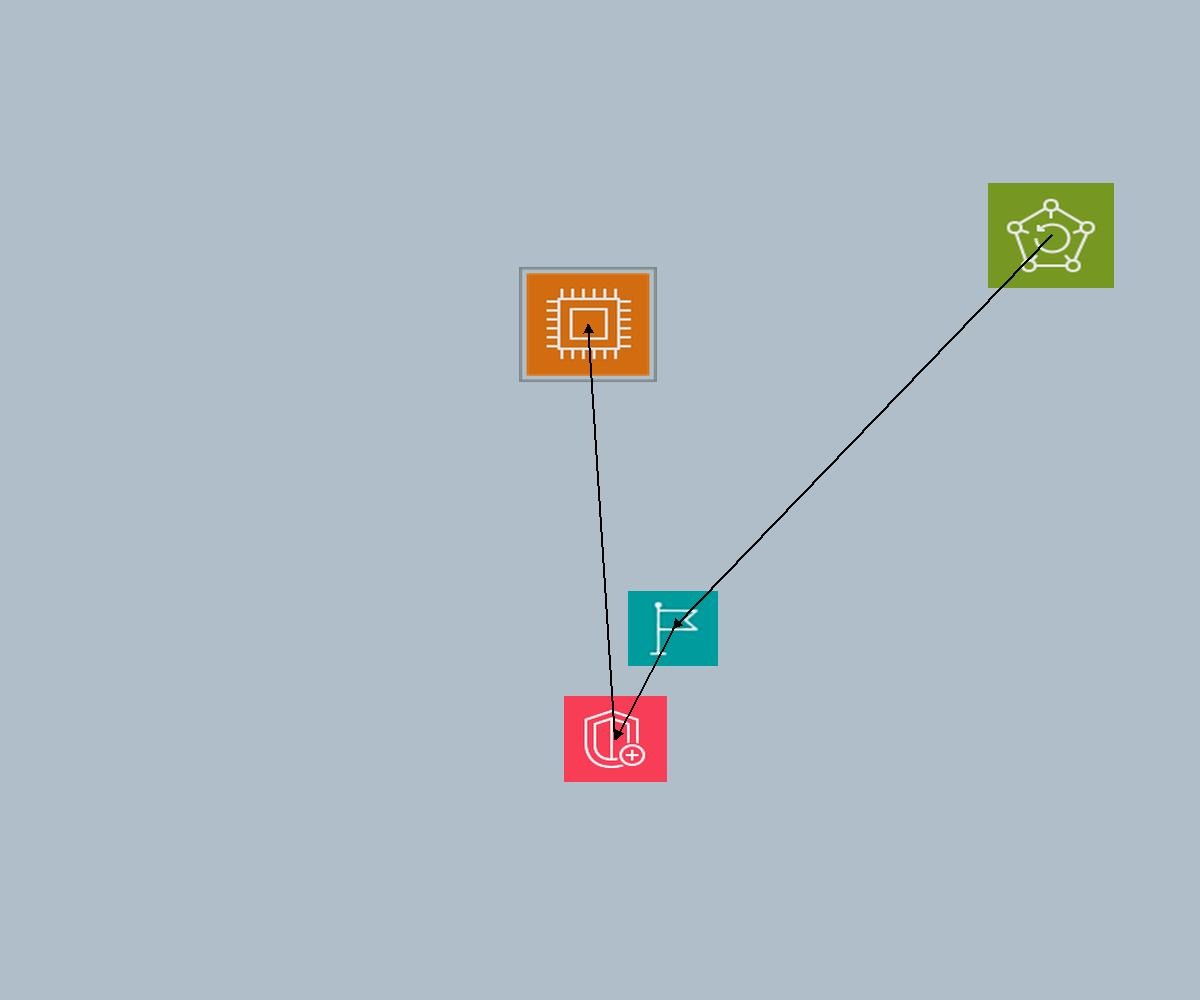AWS-Backup: (988, 183, 1114, 288)
AWS-Category_Compute: (519, 267, 657, 382)
AWS-Region: (628, 591, 718, 666)
AWS-Shield: (564, 696, 667, 782)
